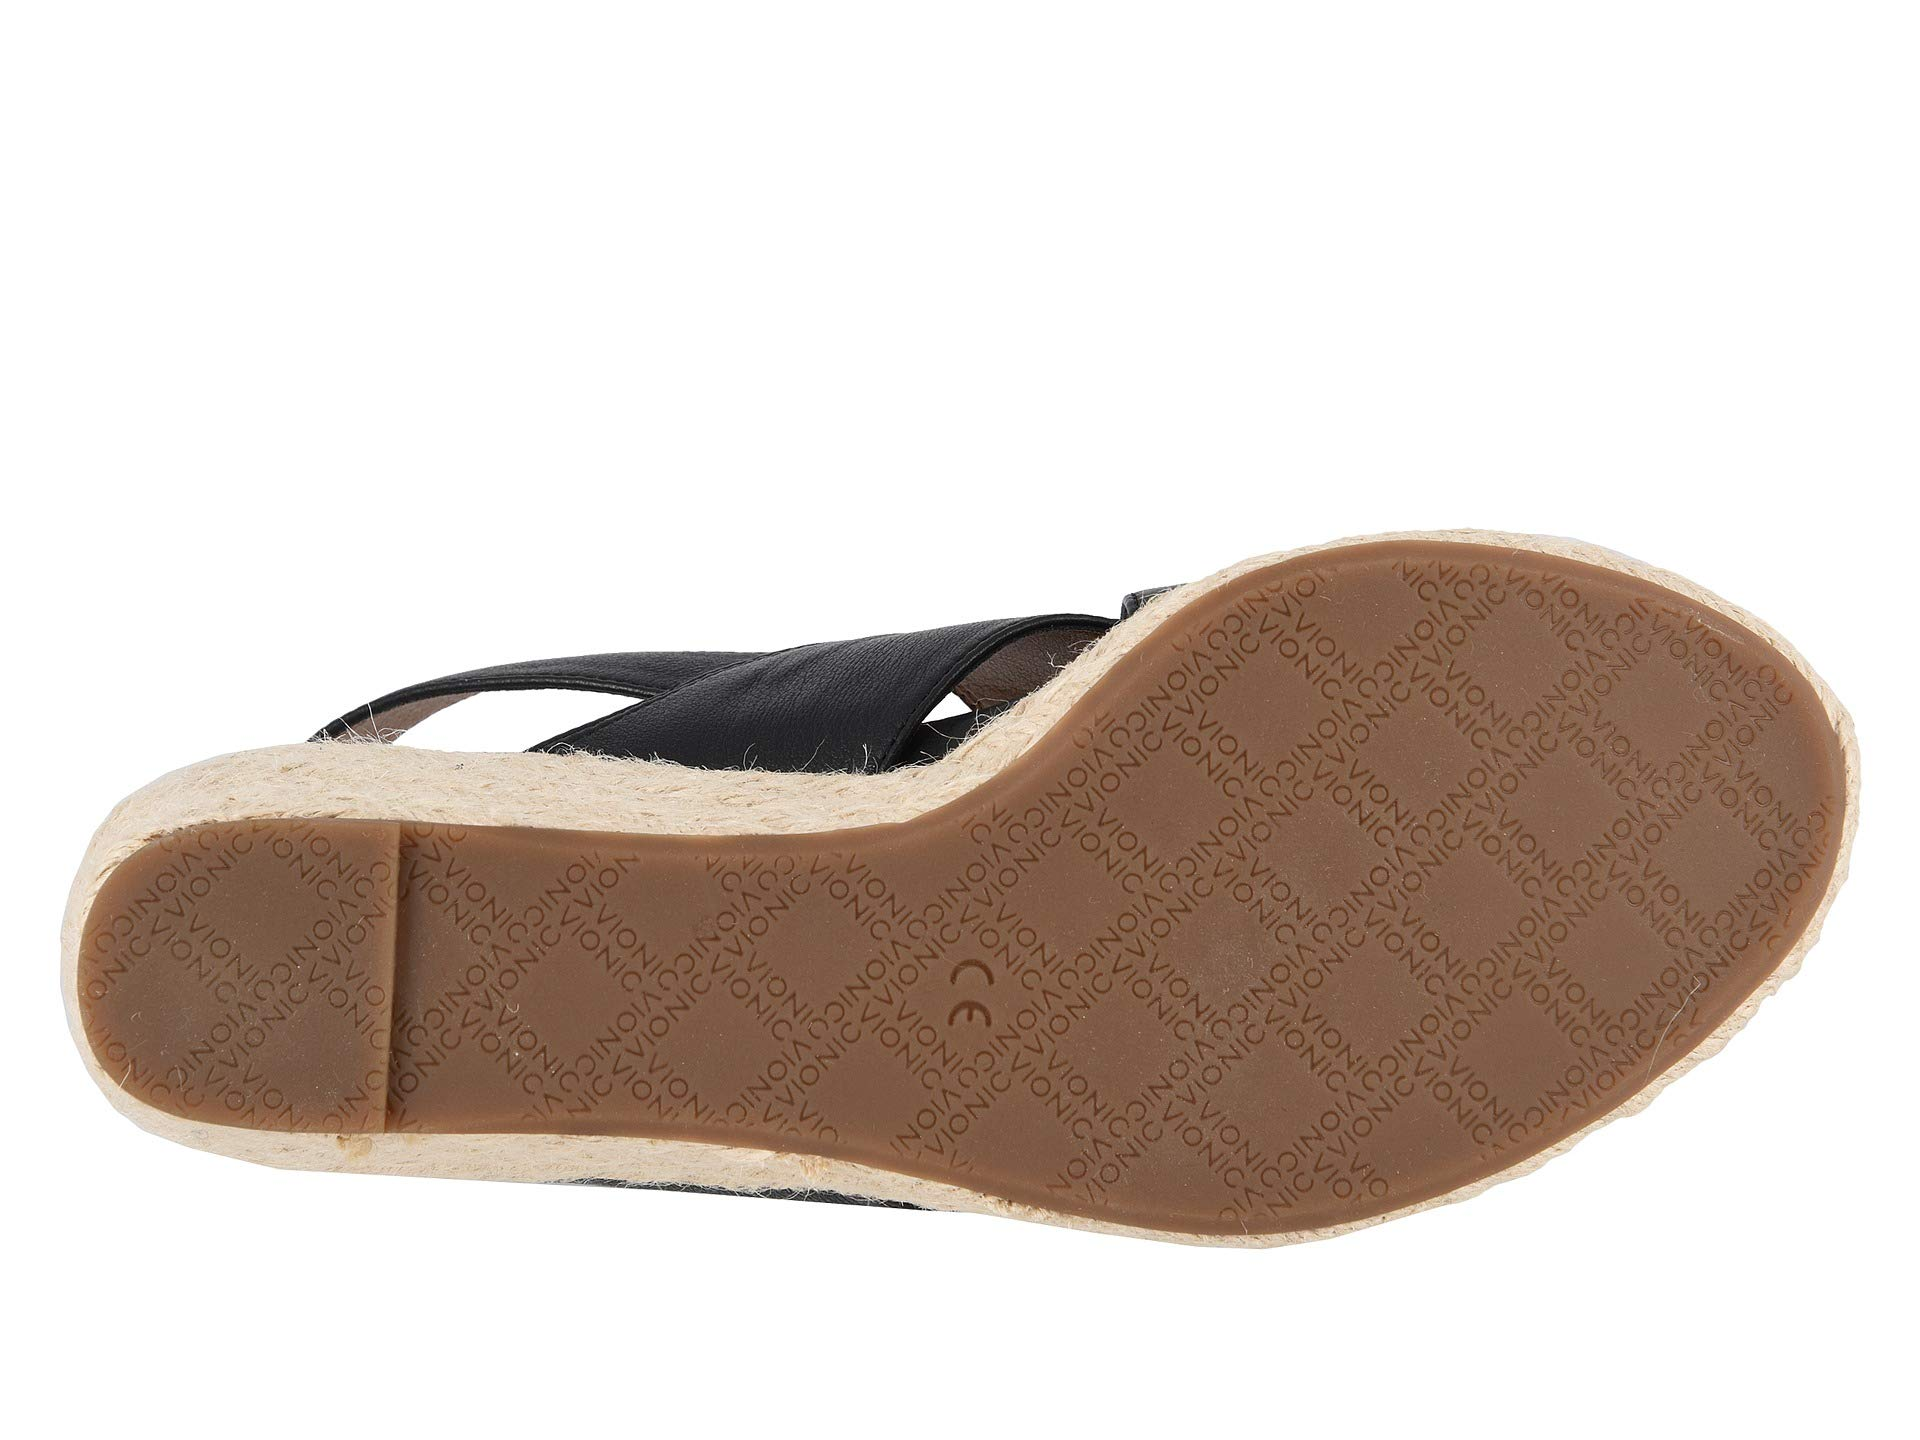circle: (1179, 672, 1627, 1116), (856, 867, 1123, 1134), (457, 862, 712, 1116)
quad: (1179, 672, 1627, 1116), (856, 867, 1123, 1134), (457, 862, 712, 1116)
text: (1179, 672, 1627, 1116), (856, 867, 1123, 1134), (457, 862, 712, 1116)
